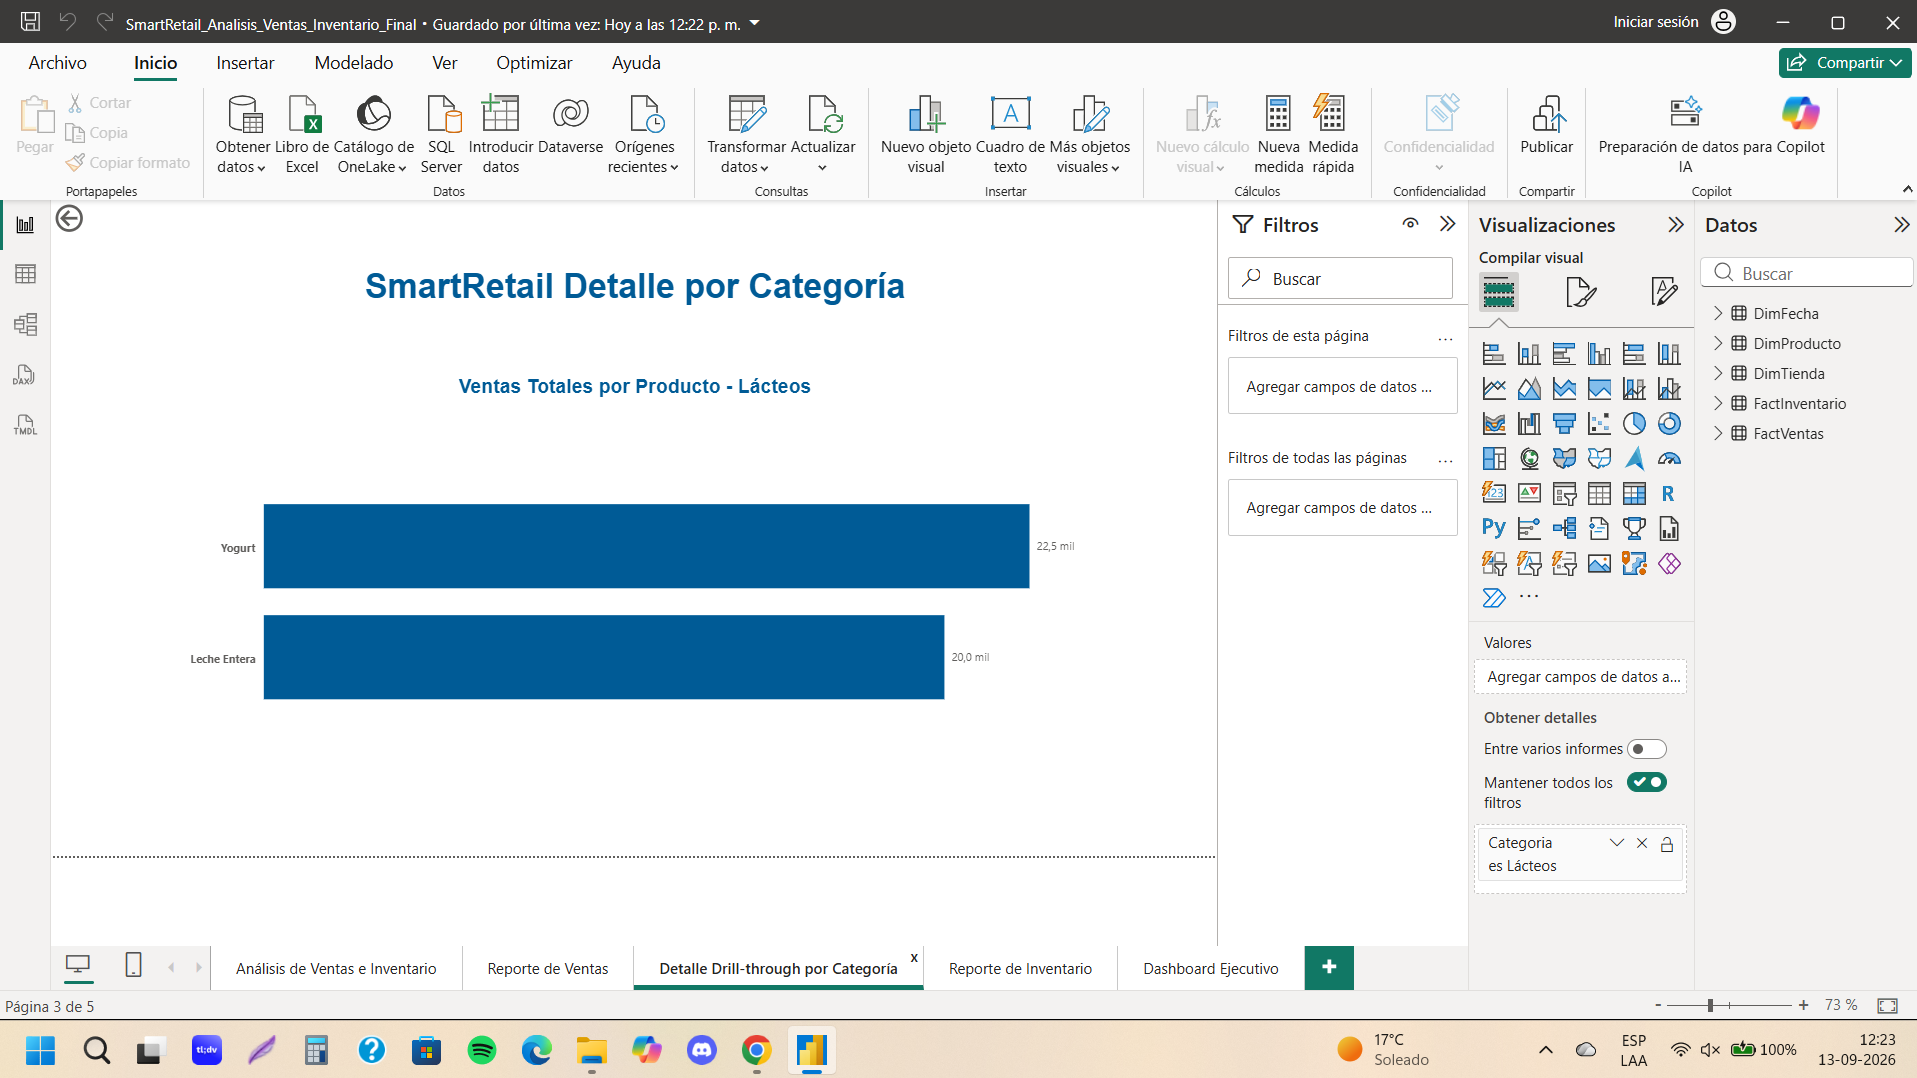

What the dashboard file says about the page in this screenshot:
{"tool":"powerbi","page":{"name":"Detalle Drill-through por Categoría","canvas":[1280,720],"ordinal":2},"visuals":[{"type":"actionButton","box":[0,0,100,40],"z":0},{"type":"clusteredBarChart","fields":{"Y":["FactVentas.Ventas Totales"],"Category":["DimProducto.Producto"]},"box":[147.1,177.1,988.6,485.7],"z":1000},{"type":"textbox","box":[334.3,68.6,612.9,57.1],"z":2000}]}

Visuals, with their boxes on the page's 1280x720 design canvas (x1, y1, x2, y2). These are canvas units, not pixel positions in the 1917x1078 screenshot, which may show the page scaled, cropped or inside an application window:
actionButton: select_region(0, 0, 100, 40)
clusteredBarChart - FactVentas.Ventas Totales x DimProducto.Producto: select_region(147, 177, 1136, 663)
textbox: select_region(334, 69, 947, 126)
